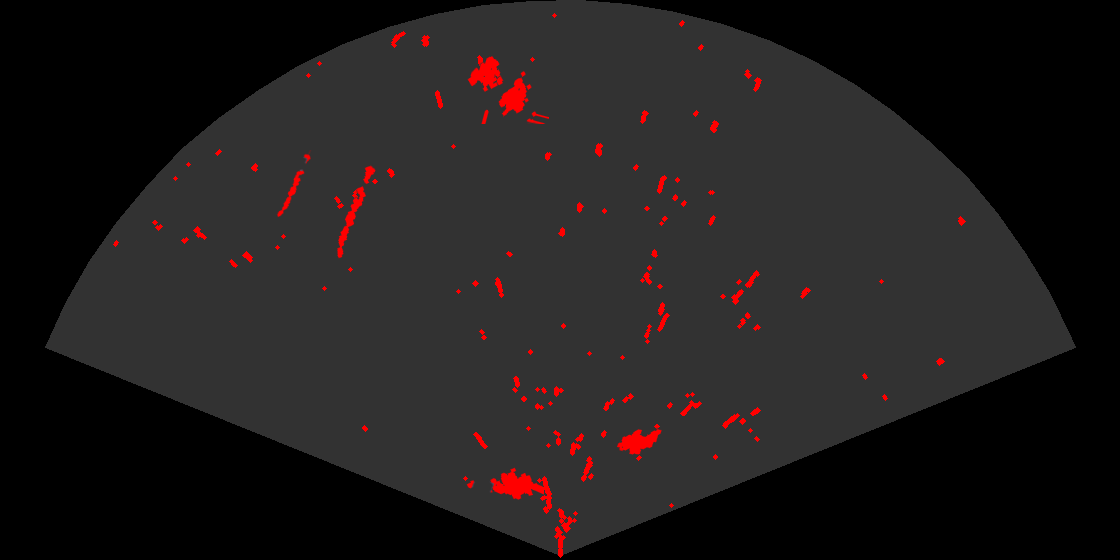AUV: (615, 427, 663, 456)
cage: (466, 55, 549, 124)
chain: (336, 164, 377, 260), (275, 150, 313, 219)
frogman: (465, 466, 544, 501)
